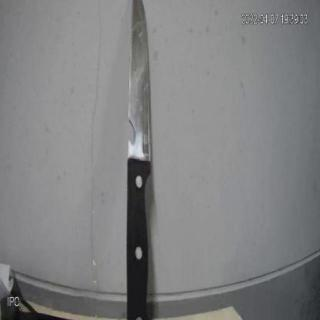knife: (108, 0, 182, 319)
